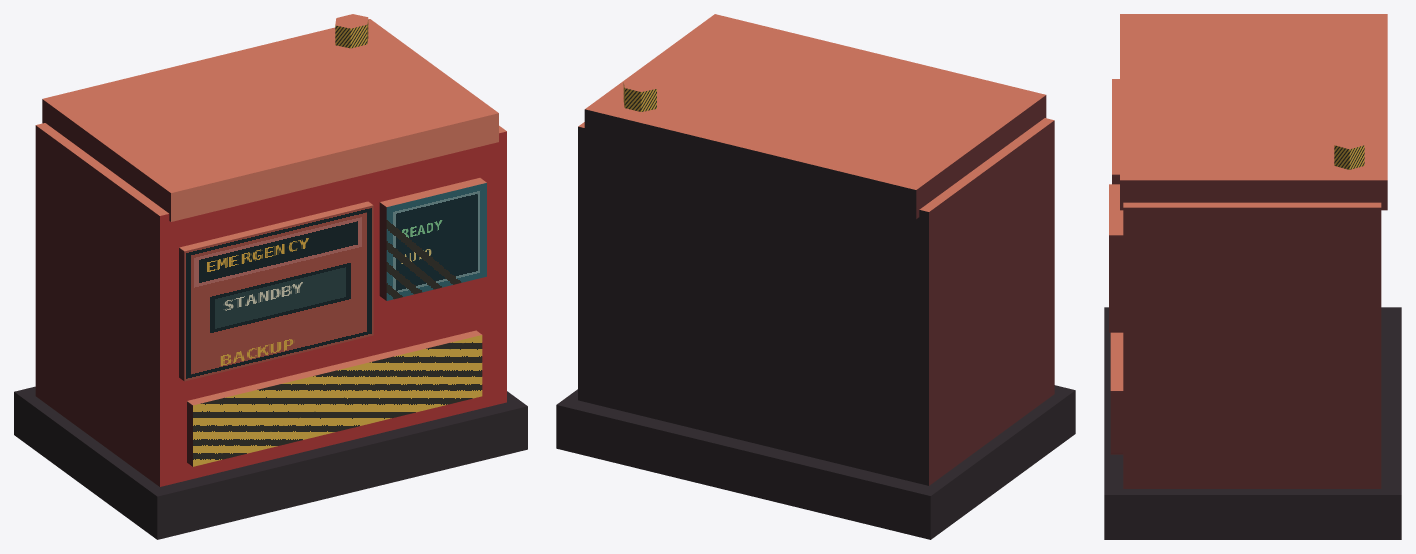
Rendered from generador_emergencia_compacto.glb.
3 renders of one model, left to right at view 1: azimuth 30°, elevation 25°; view 2: azimuth 150°, elevation 25°; view 3: azimuth 270°, elevation 25°, orthographic. The views are drawn at different scales.
Parts seen in each view (by area): view 1: GENERADORES_PROPS; view 2: GENERADORES_PROPS; view 3: GENERADORES_PROPS.
Boxes of the visible parts, x1,y1,x2,y2 form: GENERADORES_PROPS: [14, 14, 527, 539]; GENERADORES_PROPS: [556, 14, 1075, 539]; GENERADORES_PROPS: [1104, 14, 1401, 539].
Size of the model in its own units: 1.39 by 1.28 by 0.9312.
1 material, 1 textured.
